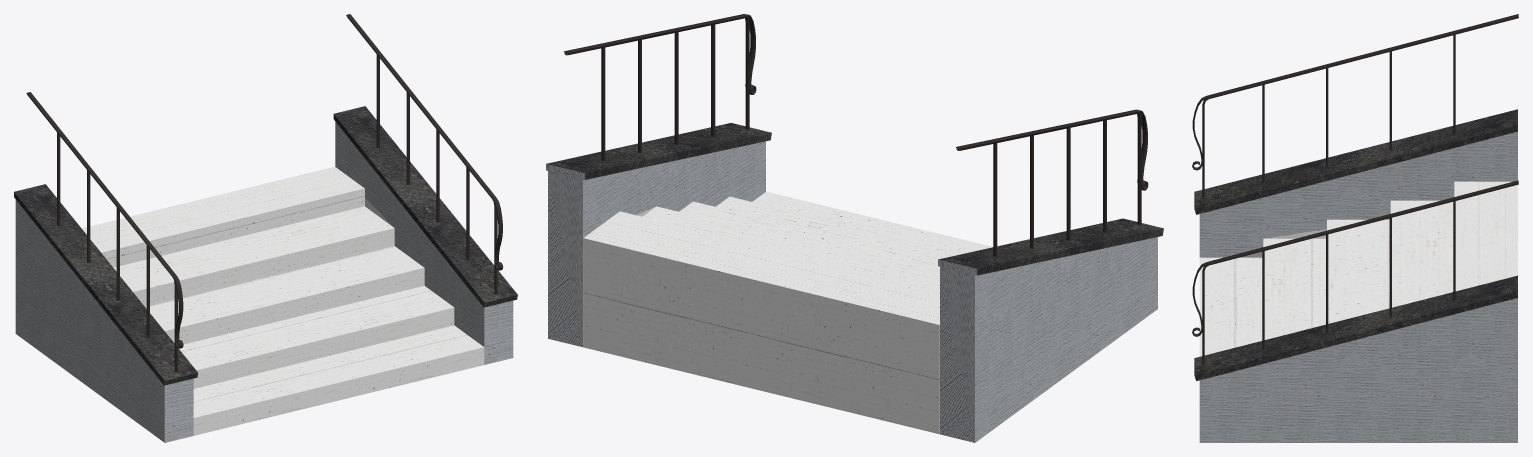
Rendered from OHstairs.glb.
The picture shows the model from 3 angles, left to right: view 1: azimuth 30°, elevation 25°; view 2: azimuth 150°, elevation 25°; view 3: azimuth 270°, elevation 25°; orthographic projection. The views are drawn at different scales.
Parts seen in each view (by area): view 1: Cube.002, Plane.005, Plane.006, Plane.004, Plane.003; view 2: Cube.002, Plane.005, Plane.006, Plane.003, Plane.004; view 3: Plane.006, Cube.002, Plane.005, Plane.003, Plane.004.
Boxes of the visible parts, <box> form: Cube.002: <box>82,166,484,435</box>; Plane.005: <box>14,184,197,442</box>; Plane.006: <box>333,106,517,364</box>; Plane.004: <box>26,92,183,372</box>; Plane.003: <box>346,14,503,294</box>; Cube.002: <box>583,191,992,434</box>; Plane.005: <box>938,218,1163,442</box>; Plane.006: <box>546,123,771,347</box>; Plane.003: <box>564,14,756,161</box>; Plane.004: <box>956,109,1148,256</box>; Plane.006: <box>1194,275,1517,442</box>; Cube.002: <box>1199,181,1517,356</box>; Plane.005: <box>1194,109,1517,257</box>; Plane.003: <box>1192,180,1518,364</box>; Plane.004: <box>1192,14,1518,198</box>.
Bounding box in the file's own units: 2.73 × 1.76 × 2.05.
Materials: 4 (4 with a texture image).
